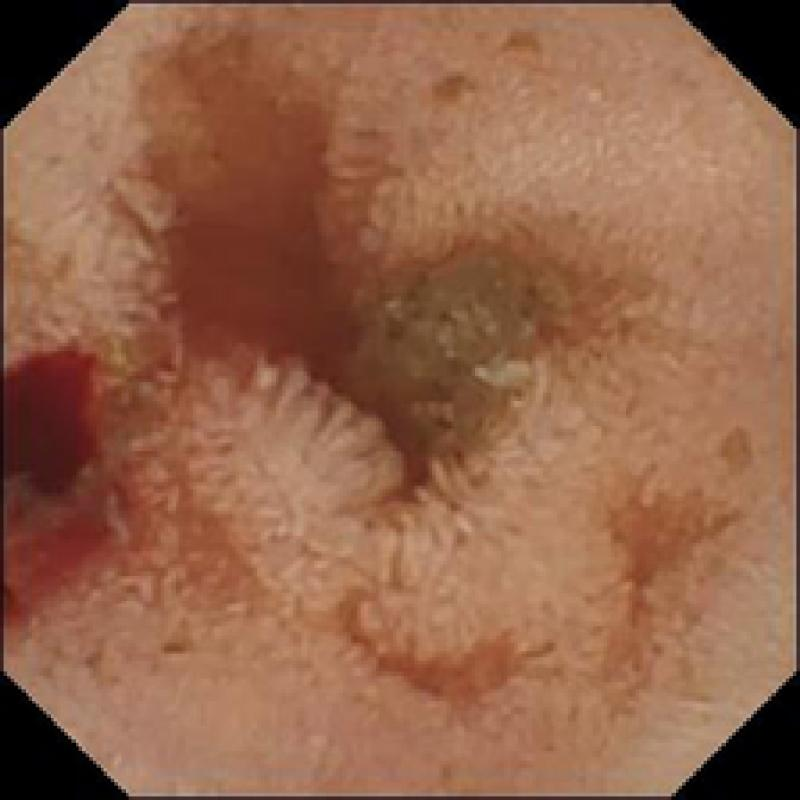bleeding: (0, 357, 107, 622)
